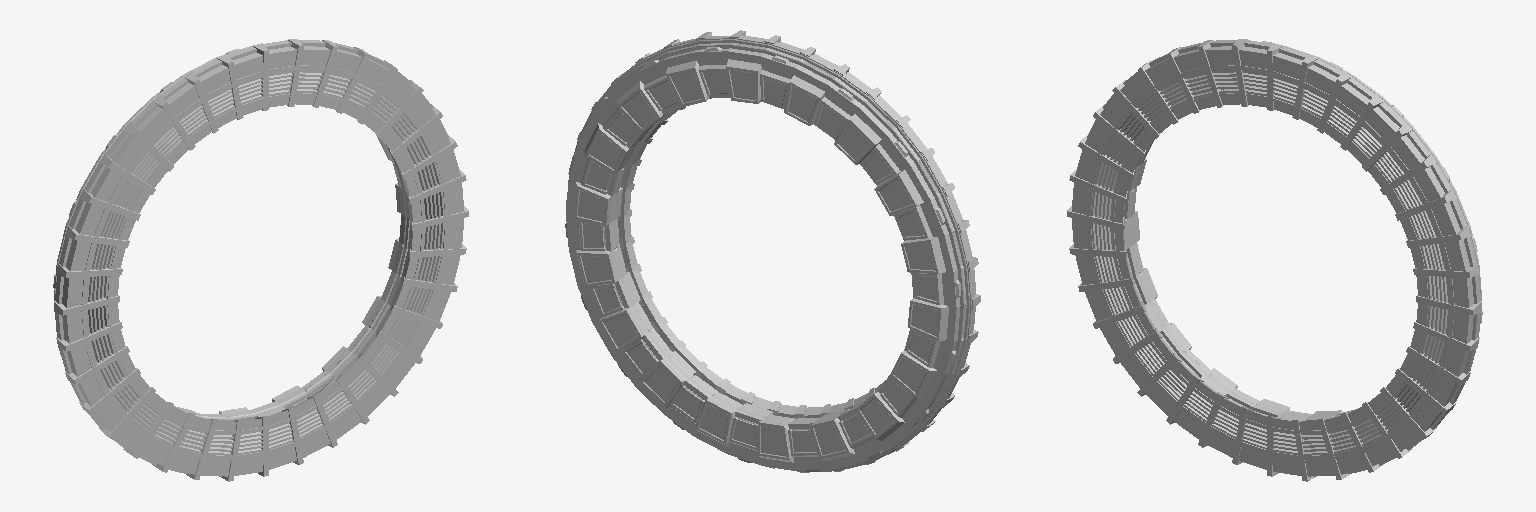
The model's file is ring.obj.
3 views of the same model, side by side, from view 1: azimuth 30°, elevation 25°; view 2: azimuth 150°, elevation 25°; view 3: azimuth 330°, elevation 25° (orthographic).
Parts seen in each view (by area): view 1: defaultMaterial.009; view 2: defaultMaterial.009; view 3: defaultMaterial.009.
Boxes of the visible parts, <box> form: defaultMaterial.009: <box>53,39,468,481</box>; defaultMaterial.009: <box>565,30,980,472</box>; defaultMaterial.009: <box>1067,39,1482,481</box>.
Size of the model in its own units: 181 by 181 by 15.75.